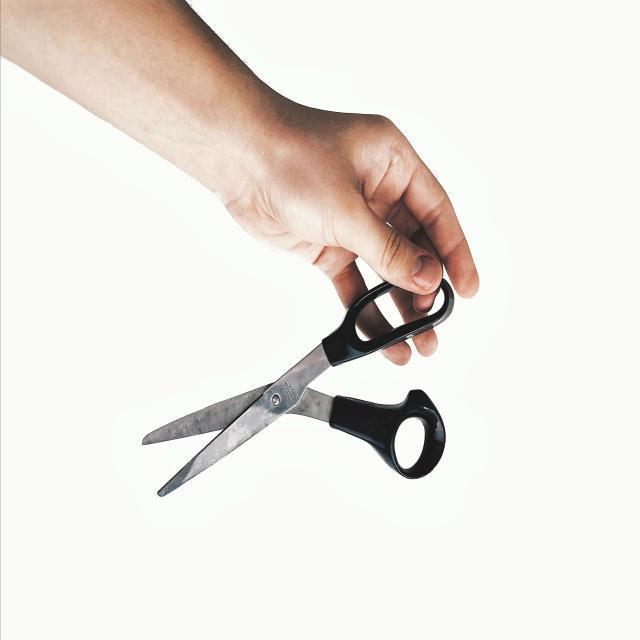scissor: (140, 276, 454, 500)
